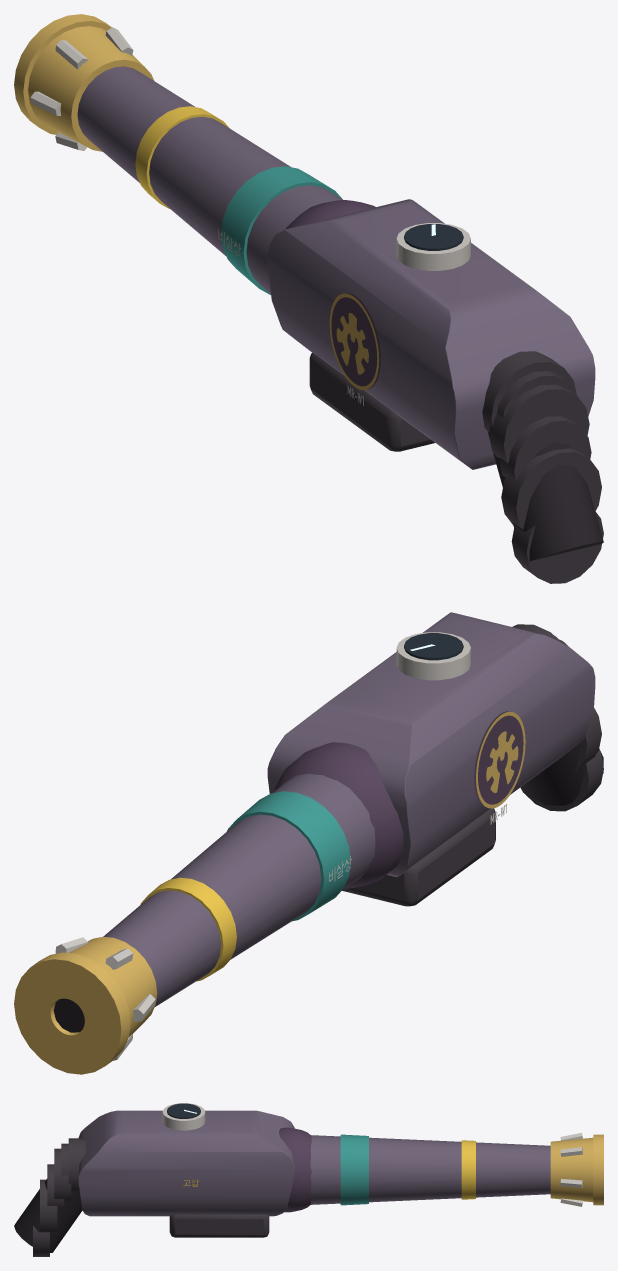
Rendered from mount_water_cannon.glb.
3 renders of one model, top to bottom at view 1: azimuth 30°, elevation 25°; view 2: azimuth 150°, elevation 25°; view 3: azimuth 270°, elevation 25°, orthographic. The views are drawn at different scales.
Visible parts, largest first — view 1: body, nozzle, body_fine; view 2: body, nozzle, body_fine; view 3: body, nozzle.
Boxes of the visible parts, x1=… form: body: x1=77, y1=66, x2=603, y2=583; nozzle: x1=14, y1=14, x2=154, y2=151; body_fine: x1=218, y1=224, x2=435, y2=405; body: x1=103, y1=612, x2=603, y2=1006; nozzle: x1=14, y1=936, x2=157, y2=1074; body_fine: x1=329, y1=644, x2=525, y2=881; body: x1=14, y1=1103, x2=550, y2=1256; nozzle: x1=550, y1=1132, x2=603, y2=1206.
Size of the model in its own units: 0.1362 by 0.2236 by 0.8287.
